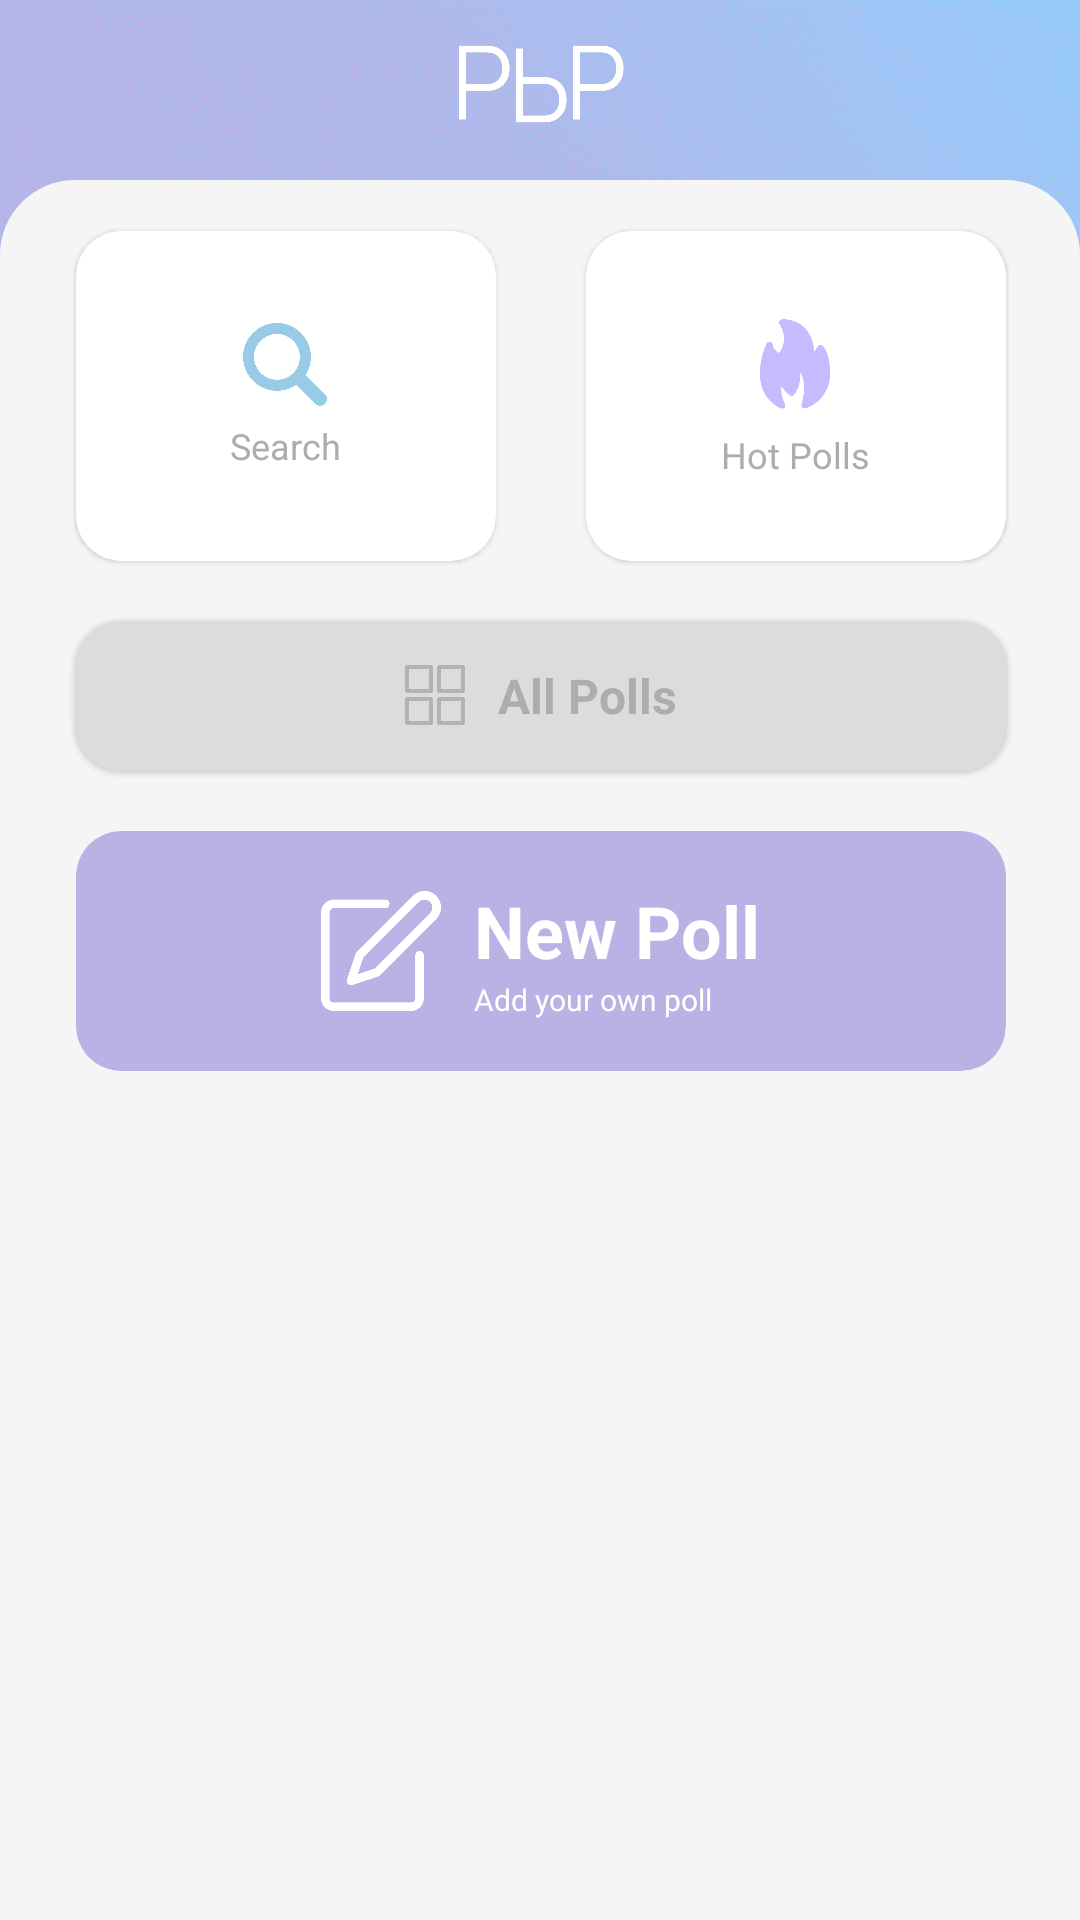

Icons on this 1080*1920 Android screen, each with the point to tap as [x,y]:
edit: [381,951]
